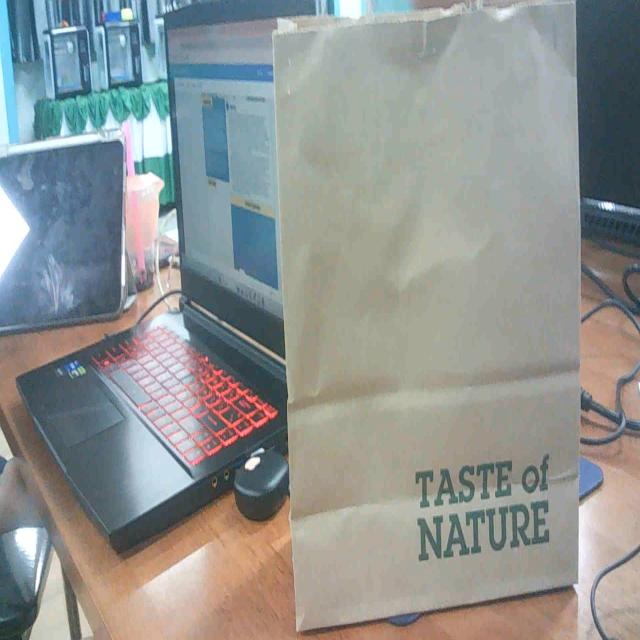bag: (258, 17, 598, 611)
